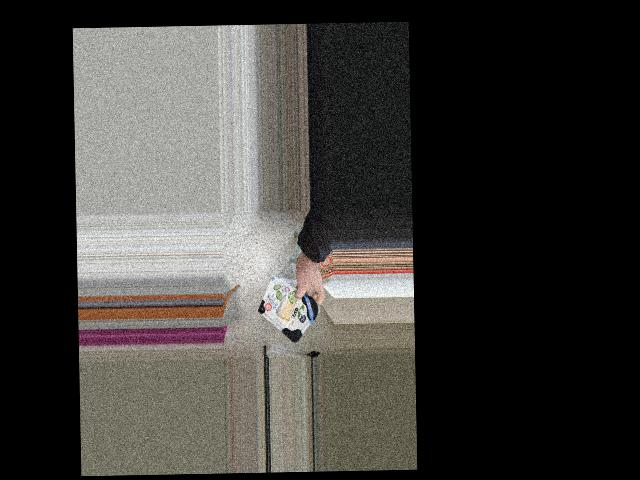cheese: (251, 279, 322, 341)
